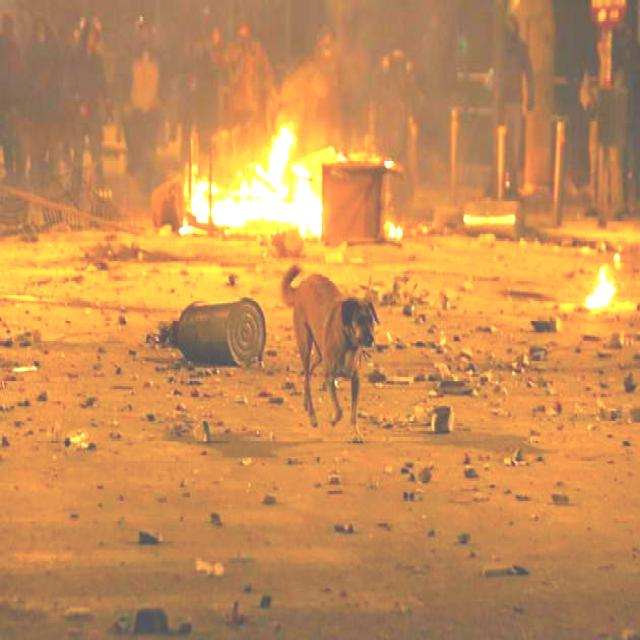Dog: (245, 260, 401, 474)
